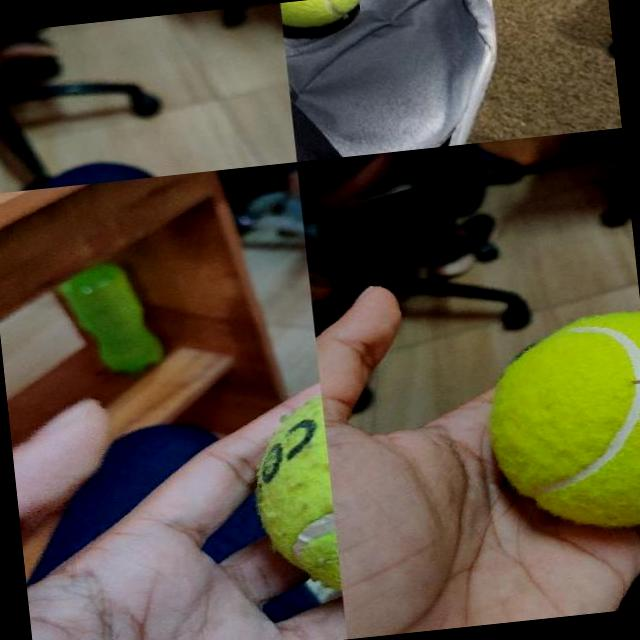Tennis Ball: (476, 309, 640, 537), (242, 378, 342, 616), (279, 0, 368, 30)
